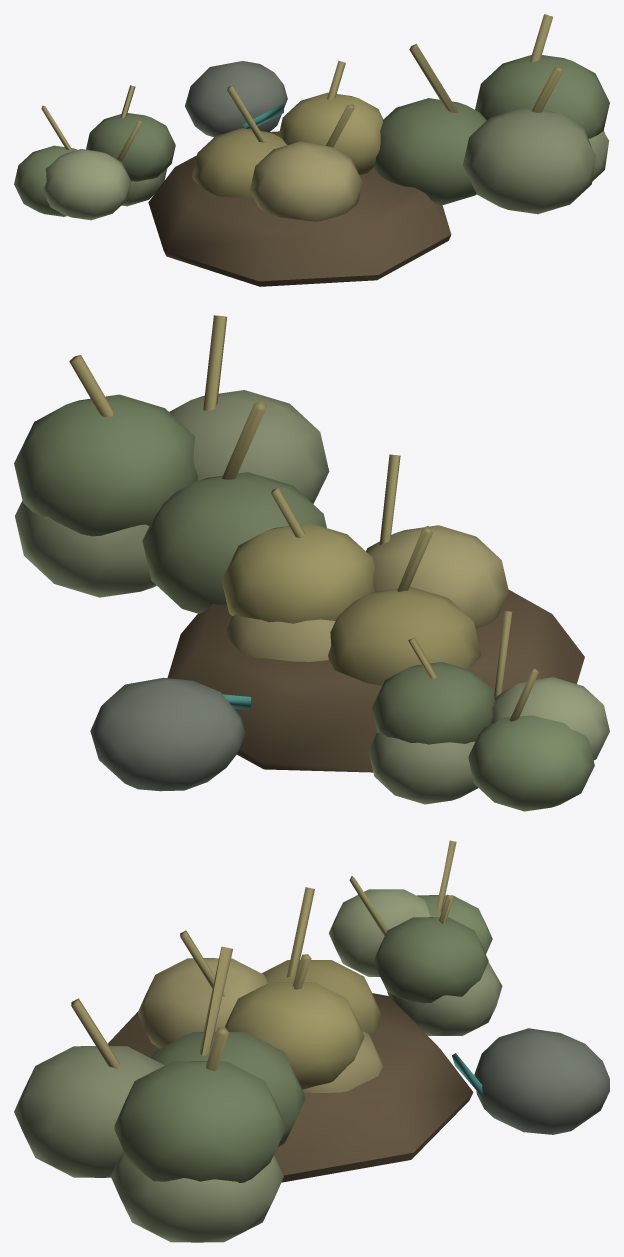
File: bursage_c_lod1.glb
3 views of the same model, one above another, from view 1: azimuth 30°, elevation 25°; view 2: azimuth 150°, elevation 25°; view 3: azimuth 270°, elevation 25° (orthographic). The views are drawn at different scales.
Visible parts, largest first — view 1: Surface.001; view 2: Surface.001; view 3: Surface.001.
Part boxes in pixels (box(x1,y1,x2,y2)): Surface.001: box(14, 14, 609, 286); Surface.001: box(14, 315, 609, 811); Surface.001: box(14, 840, 609, 1242).
Size of the model in its own units: 2.4 by 0.7935 by 1.97.
